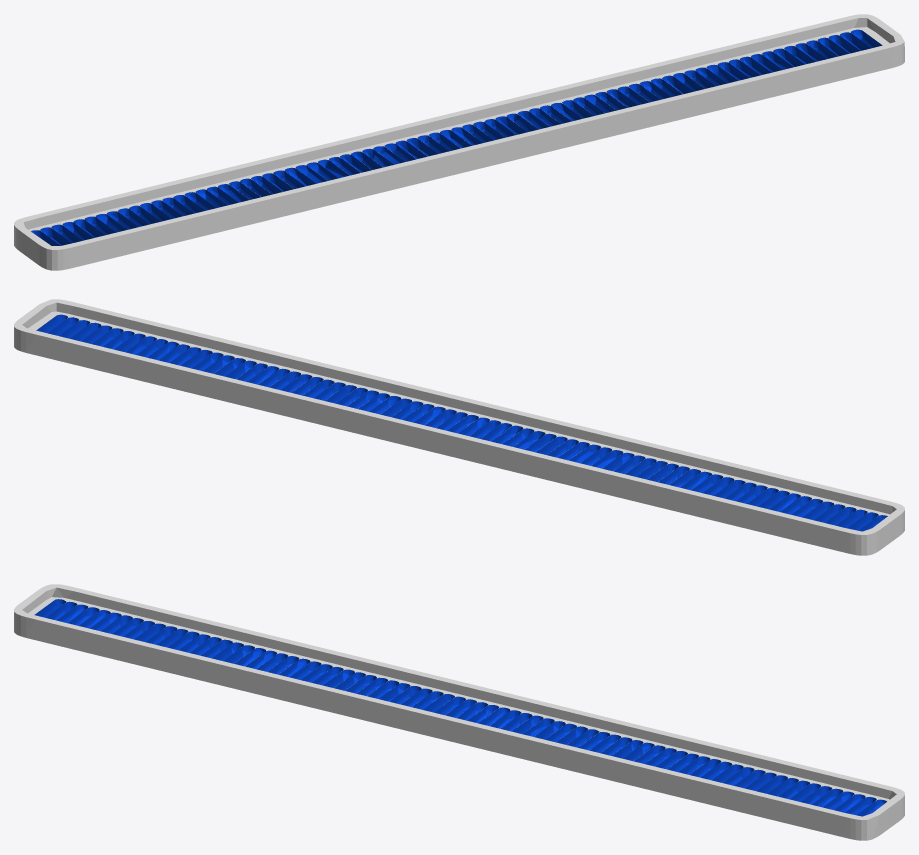
The model's file is collector_255.fbx.
3 views of the same model, one above another, from view 1: azimuth 30°, elevation 25°; view 2: azimuth 150°, elevation 25°; view 3: azimuth 330°, elevation 25° (orthographic).
Visible parts, largest first — view 1: collector; view 2: collector; view 3: collector.
Part boxes in pixels (<box>): collector: <box>14,14,904,270</box>; collector: <box>14,299,904,555</box>; collector: <box>14,584,904,840</box>.
Bounding box in the file's own units: 132 × 3.04 × 11.31.
